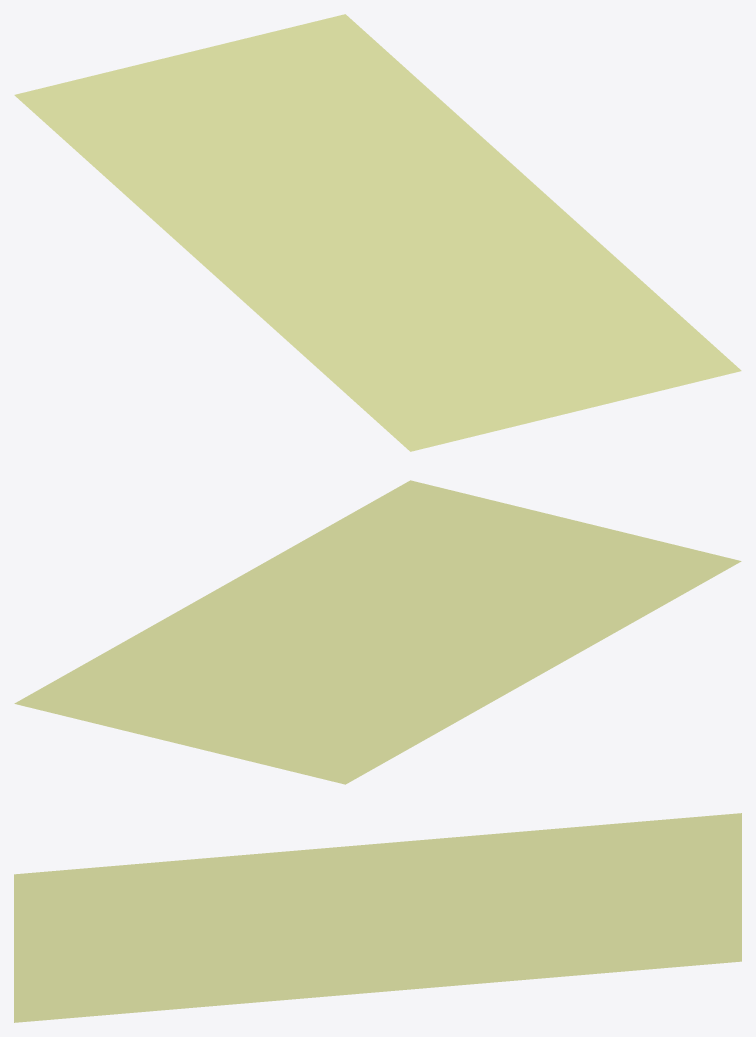
Rendered from deco_def2.gltf.
3 views of the same model, one above another, from view 1: azimuth 30°, elevation 25°; view 2: azimuth 150°, elevation 25°; view 3: azimuth 270°, elevation 25° (orthographic). The views are drawn at different scales.
Parts seen in each view (by area): view 1: deco_def2; view 2: deco_def2; view 3: deco_def2.
Part boxes in pixels (x1,y1,x2,y2): deco_def2: [14, 14, 741, 451]; deco_def2: [14, 480, 741, 784]; deco_def2: [14, 813, 741, 1022].
Size of the model in its own units: 0.127 by 0.0244 by 0.2629.
